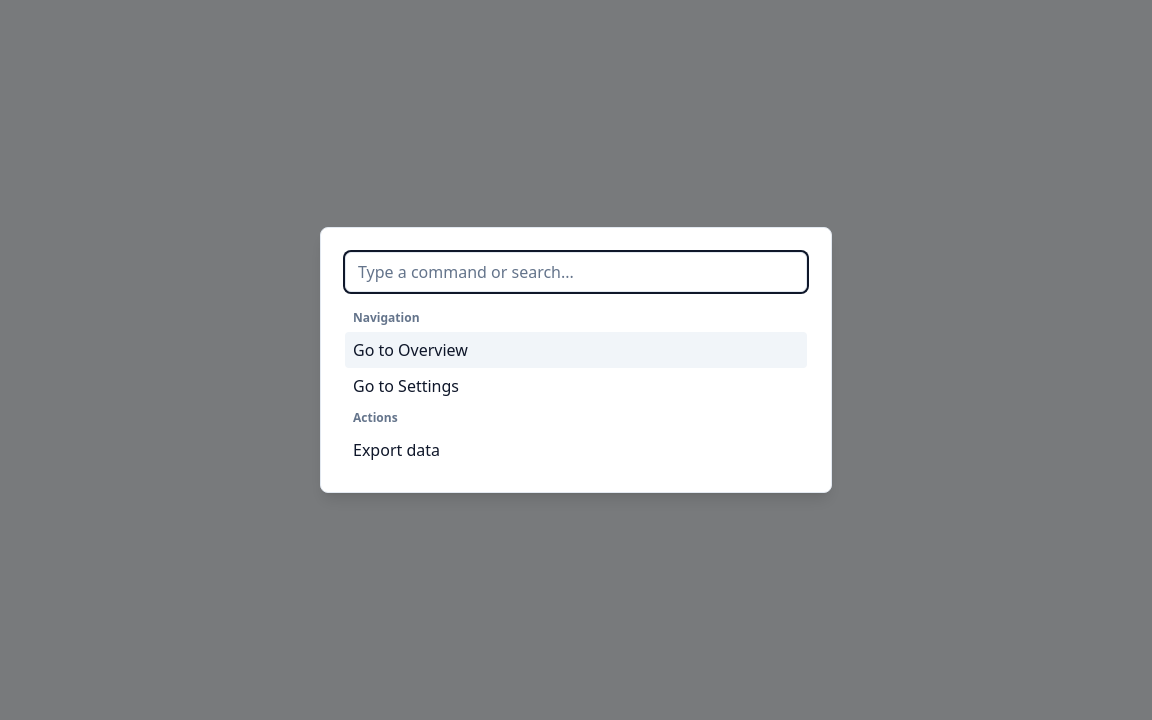
Test: <CommandPalette> › shows an empty state for no matches
Type "zzzzz" into the dropdown.
click(576, 272); type("zzzzz")  # box [345,252,807,292]
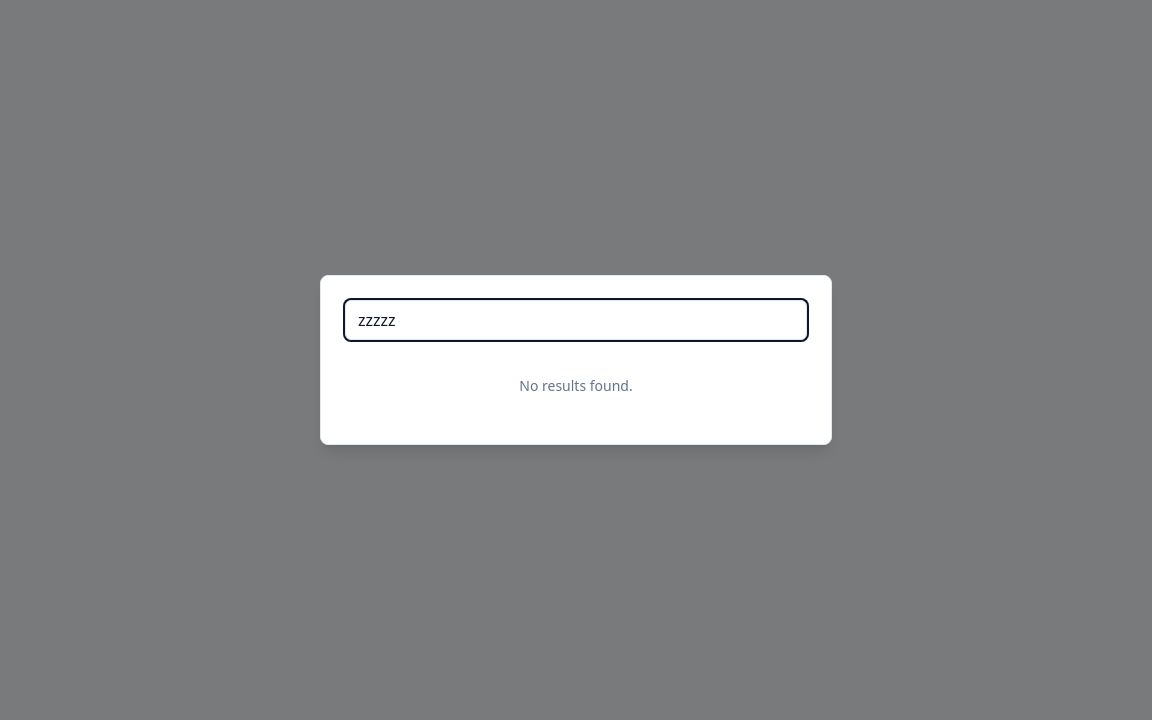
expect the list item "No results found." is shown: met, box [519,376,633,395]
